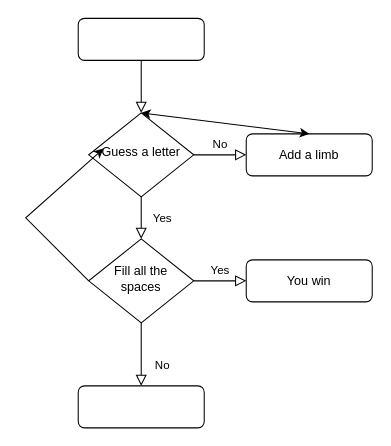
This 391x446 diagram has some shape labels left out. The centre of each missing label's shape, as x and y in pixels:
Hangman: pixel 140 38
Repair Lamp: pixel 140 406
